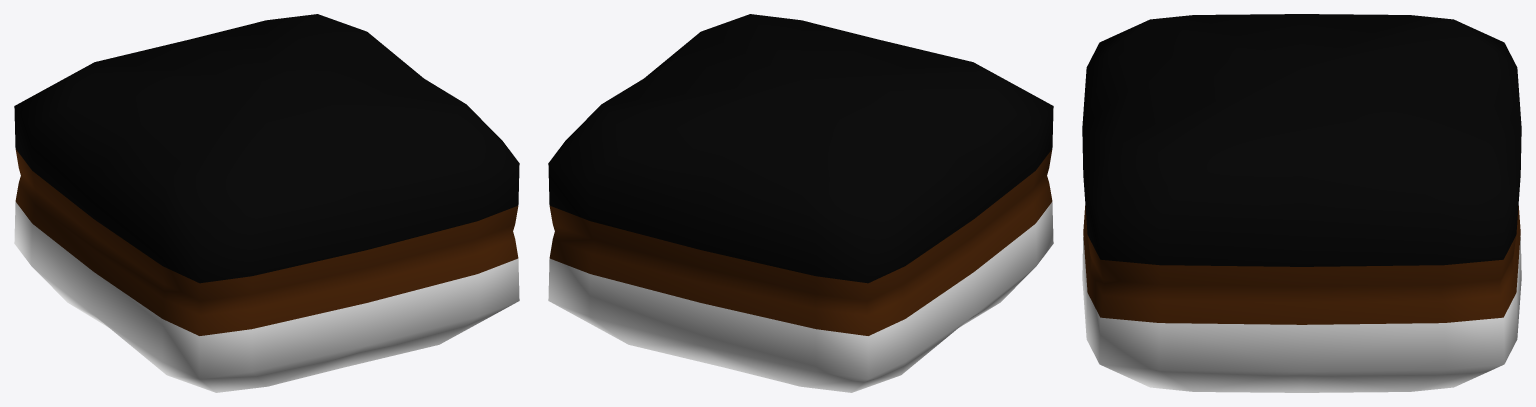
The model's file is Mesh_CubeHorse.fbx.
3 views of the same model, side by side, from view 1: azimuth 30°, elevation 25°; view 2: azimuth 150°, elevation 25°; view 3: azimuth 270°, elevation 25° (orthographic). The views are drawn at different scales.
Parts seen in each view (by area): view 1: Cylinder002; view 2: Cylinder002; view 3: Cylinder002.
Boxes of the visible parts, x1,y1,x2,y2 form: Cylinder002: (14,14,519,392); Cylinder002: (548,14,1053,392); Cylinder002: (1082,14,1521,392).
Bounding box in the file's own units: 29.56 × 20 × 29.56.
